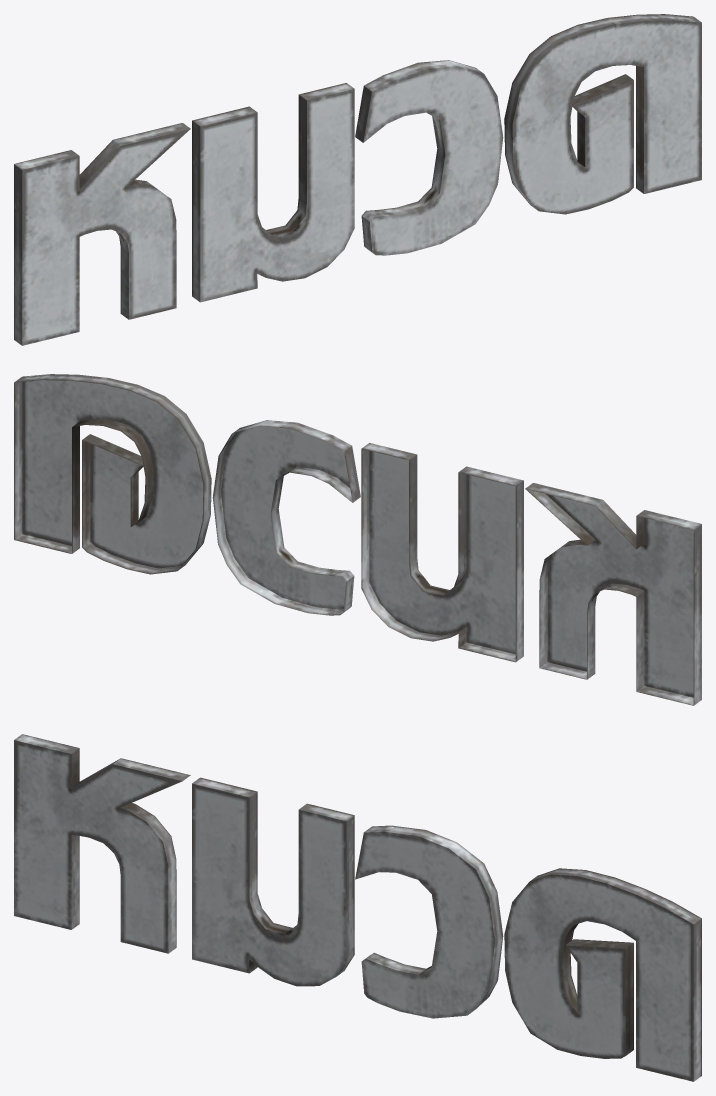
File: categorySignText.FBX
The picture shows the model from 3 angles, top to bottom: view 1: azimuth 30°, elevation 25°; view 2: azimuth 150°, elevation 25°; view 3: azimuth 330°, elevation 25°; orthographic projection.
Visible parts, largest first — view 1: SM_CategorySignText; view 2: SM_CategorySignText; view 3: SM_CategorySignText.
Boxes of the visible parts, <box> form: SM_CategorySignText: <box>14,14,701,345</box>; SM_CategorySignText: <box>14,374,701,705</box>; SM_CategorySignText: <box>14,734,701,1081</box>.
Size of the model in its own units: 9.56 by 2.42 by 0.2.
1 material, 1 textured.
